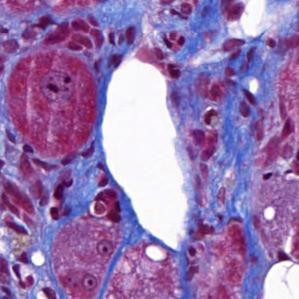inflammation: (102, 18, 141, 52), (86, 187, 121, 219), (236, 75, 265, 108), (41, 196, 71, 224)
